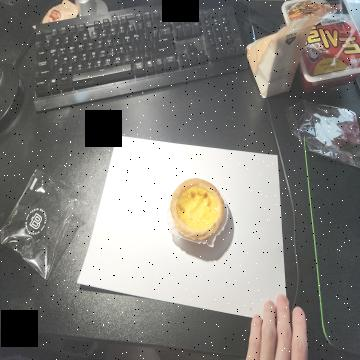EggTart: (170, 177, 225, 241)
